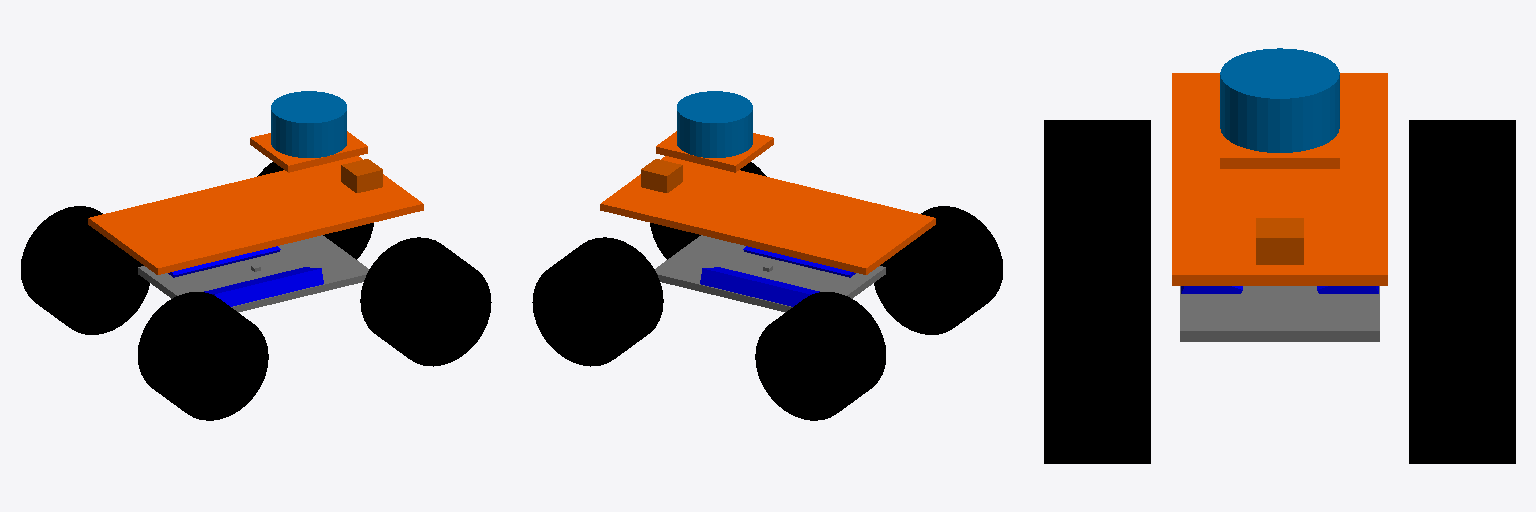
--- Facts derived from the render (not from the file) ---
The picture shows the robot from 3 angles, left to right: view 1: azimuth 30°, elevation 25°; view 2: azimuth 150°, elevation 25°; view 3: azimuth 270°, elevation 25°; orthographic projection.
Model racecar with 22 links and 21 joints (2 revolute, 4 continuous, 4 prismatic, 11 fixed), rooted at base_footprint, posed all joints at 0.
Links seen in each view (by area): view 1: platform_link, right_rear_wheel, right_front_wheel, left_rear_wheel, chassis, laser_link, right_battery, lidar_platform_link, imu_link, left_front_wheel, left_battery; view 2: platform_link, left_rear_wheel, left_front_wheel, right_rear_wheel, chassis, laser_link, left_battery, lidar_platform_link, imu_link, right_front_wheel, right_battery; view 3: platform_link, left_front_wheel, right_front_wheel, left_rear_wheel, right_rear_wheel, laser_link, chassis, lidar_platform_link, imu_link.
Boxes of the visible links, bbox=[...] form: platform_link: bbox=[88, 156, 423, 274]; right_rear_wheel: bbox=[138, 292, 268, 420]; right_front_wheel: bbox=[360, 237, 491, 366]; left_rear_wheel: bbox=[21, 206, 149, 334]; chassis: bbox=[138, 235, 368, 312]; laser_link: bbox=[271, 91, 346, 157]; right_battery: bbox=[204, 267, 323, 306]; lidar_platform_link: bbox=[250, 131, 367, 172]; imu_link: bbox=[341, 159, 382, 192]; left_front_wheel: bbox=[257, 162, 373, 259]; left_battery: bbox=[168, 246, 280, 277]; platform_link: bbox=[600, 156, 935, 274]; left_rear_wheel: bbox=[755, 292, 885, 420]; left_front_wheel: bbox=[532, 237, 663, 366]; right_rear_wheel: bbox=[874, 206, 1002, 334]; chassis: bbox=[655, 235, 885, 312]; laser_link: bbox=[677, 91, 752, 157]; left_battery: bbox=[700, 267, 819, 306]; lidar_platform_link: bbox=[656, 131, 773, 172]; imu_link: bbox=[641, 159, 682, 192]; right_front_wheel: bbox=[650, 162, 766, 259]; right_battery: bbox=[743, 246, 855, 277]; platform_link: bbox=[1172, 73, 1387, 285]; left_front_wheel: bbox=[1409, 289, 1515, 463]; right_front_wheel: bbox=[1044, 289, 1150, 463]; left_rear_wheel: bbox=[1409, 120, 1515, 288]; right_rear_wheel: bbox=[1044, 120, 1150, 288]; laser_link: bbox=[1220, 48, 1339, 152]; chassis: bbox=[1180, 286, 1379, 341]; lidar_platform_link: bbox=[1220, 129, 1339, 168]; imu_link: bbox=[1256, 218, 1303, 264].
Bounding box of the posed robot: 0.4811 × 0.3939 × 0.3115 m (x, y, z).
0 mesh visuals loaded from 1 distinct referenced files (none loaded); not drawn: 1 (reference not matched to a file when rendering).

The robot description file, URDF, robot "racecar":
<?xml version="1.0" encoding="utf-8"?>
<!-- =================================================================================== -->
<!-- |    This document was autogenerated by xacro from racecar.urdf.xacro             | -->
<!-- |    EDITING THIS FILE BY HAND IS NOT RECOMMENDED                                 | -->
<!-- =================================================================================== -->
<!-- racecar.urdf.xacro

This file defines a model of a Traxxas(R) E-Maxx(R) #3905 RC (Radio Controlled)
truck.

Lengths are measured in meters, angles are measured in radians, and masses are
measured in kilograms. All of these values are approximations.

To work with Gazebo, each link must have an inertial element, even if
the link only serves to connect two joints. To be visible in Gazebo, a link
must have a collision element. Furthermore, the link must have a Gazebo
material.

Traxxas(R), E-Maxx(R), and Titan(R) are registered trademarks of Traxxas
Management, LLC. em_3905.urdf.xacro was independently created by Wunderkammer
Laboratory, and neither em_3905.urdf.xacro nor Wunderkammer Laboratory is
affiliated with, sponsored by, approved by, or endorsed by Traxxas Management,
LLC. Mabuchi Motor(R) is a registered trademark of Mabuchi Motor Co., Ltd.
Corporation Japan. All other trademarks and service marks are the property of
their respective owners.

Copyright (c) 2011-2014 Wunderkammer Laboratory

Licensed under the Apache License, Version 2.0 (the "License");
you may not use this file except in compliance with the License.
You may obtain a copy of the License at

  http://www.apache.org/licenses/LICENSE-2.0

Unless required by applicable law or agreed to in writing, software
distributed under the License is distributed on an "AS IS" BASIS,
WITHOUT WARRANTIES OR CONDITIONS OF ANY KIND, either express or implied.
See the License for the specific language governing permissions and
limitations under the License.
-->
<robot name="racecar">
  <link name="camera_link">
    <inertial>
      <mass value="0.001"/>
      <origin xyz="0 0 0"/>
      <inertia ixx="0.001" ixy="0.0" ixz="0.0" iyy="0.001" iyz="0.0" izz="0.001"/>
    </inertial>
    <visual>
      <origin rpy="1.57 0 1.57" xyz=" 0 0 0 "/>
      <geometry>
        <mesh filename="package://racecar_description/meshes/S1030-0315.dae" scale="0.1 0.1 0.1"/>
      </geometry>
    </visual>
    <collision>
      <origin rpy="0 0 0" xyz="0.0 0.0 0.0"/>
      <geometry>
        <box size="0.03 0.16 0.03"/>
      </geometry>
    </collision>
  </link>
  <gazebo reference="camera_link">
    <material>Gazebo/Black</material>
  </gazebo>
  <gazebo reference="camera_link">
    <sensor name="camera_node" type="camera">
      <pose>0 0 0 0 0 0</pose>
      <update_rate>30.0</update_rate>
      <camera name="head">
        <horizontal_fov>1.3962634</horizontal_fov>
        <image>
          <width>1280</width>
          <height>720</height>
          <format>R8G8B8</format>
        </image>
        <clip>
          <near>0.02</near>
          <far>300</far>
        </clip>
        <noise>
          <type>gaussian</type>
          <mean>0.0</mean>
          <stddev>0.007</stddev>
        </noise>
      </camera>
      <plugin filename="libgazebo_ros_camera.so" name="gazebo_camera">
        <alwaysOn>true</alwaysOn>
        <updateRate>0.0</updateRate>
        <cameraName>/camera</cameraName>
        <imageTopicName>image_raw</imageTopicName>
        <cameraInfoTopicName>camera_info</cameraInfoTopicName>
        <frameName>camera_link</frameName>
        <hackBaseline>0.07</hackBaseline>
        <distortionK1>0.0</distortionK1>
        <distortionK2>0.0</distortionK2>
        <distortionK3>0.0</distortionK3>
        <distortionT1>0.0</distortionT1>
        <distortionT2>0.0</distortionT2>
      </plugin>
    </sensor>
  </gazebo>
  <material name="battery_mat">
    <color rgba="0 0 1 1"/>
  </material>
  <material name="chassis_mat">
    <color rgba="0.5 0.5 0.5 1"/>
  </material>
  <material name="tire_mat">
    <color rgba="0 0 0 1"/>
  </material>
  <material name="yellow">
    <color rgba="1 0.4 0 1"/>
  </material>
  <link name="base_footprint"/>
  <!-- base_link must have geometry so that its axes can be displayed in
       rviz. -->
  <link name="base_link">
    <visual>
      <geometry>
        <box size="0.01 0.01 0.01"/>
      </geometry>
      <material name="chassis_mat"/>
    </visual>
  </link>
  <gazebo reference="base_link">
    <material>Gazebo/Grey</material>
  </gazebo>
  <joint name="base_footprint_to_base_link" type="fixed">
    <parent link="base_footprint"/>
    <child link="base_link"/>
    <origin xyz="0 0 0.1075"/>
  </joint>
  <!-- Chassis -->
  <link name="chassis">
    <visual>
      W
      
      <origin xyz="0 0 -0.005"/>
      <geometry>
        <box size="0.258 0.168 0.01"/>
      </geometry>
      <material name="chassis_mat"/>
    </visual>
    <collision>
      <origin xyz="0 0 -0.005"/>
      <geometry>
        <box size="0.258 0.168 0.01"/>
      </geometry>
    </collision>
    <inertial>
      <origin xyz="0 0 -0.005"/>
      <mass value="2.788"/>
      <inertia ixx="0.00658060933333" ixy="0" ixz="0" iyy="0.0154882693333" iyz="0" izz="0.022022412"/>
    </inertial>
  </link>
  <gazebo reference="chassis">
    <material>Gazebo/Grey</material>
  </gazebo>
  <joint name="base_link_to_chassis" type="fixed">
    <parent link="base_link"/>
    <child link="chassis"/>
  </joint>
  <joint name="chassis_to_left_battery" type="fixed">
    <parent link="chassis"/>
    <child link="left_battery_offset"/>
    <origin rpy="0.34906585 0 0" xyz="-0.025                    0.0325                    0"/>
  </joint>
  <link name="left_battery_offset">
    <inertial>
      <mass value="0.001"/>
      <inertia ixx="0.001" ixy="0" ixz="0" iyy="0.001" iyz="0" izz="0.001"/>
    </inertial>
  </link>
  <joint name="offset_to_left_battery" type="fixed">
    <parent link="left_battery_offset"/>
    <child link="left_battery"/>
    <origin xyz="0                    0.0235                    -0.008"/>
  </joint>
  <link name="left_battery">
    <visual>
      <geometry>
        <box size="0.16 0.047 0.024"/>
      </geometry>
      <material name="battery_mat"/>
    </visual>
    <collision>
      <geometry>
        <box size="0.16 0.047 0.024"/>
      </geometry>
    </collision>
    <inertial>
      <origin/>
      <mass value="0.5025"/>
      <inertia ixx="0.000116621875" ixy="0" ixz="0" iyy="0.00109612" iyz="0" izz="0.001164501875"/>
    </inertial>
  </link>
  <gazebo reference="left_battery">
    <material>Gazebo/Blue</material>
  </gazebo>
  <joint name="chassis_to_right_battery" type="fixed">
    <parent link="chassis"/>
    <child link="right_battery_offset"/>
    <origin rpy="-0.34906585 0 0" xyz="-0.025                    -0.0325                    0"/>
  </joint>
  <link name="right_battery_offset">
    <inertial>
      <mass value="0.001"/>
      <inertia ixx="0.001" ixy="0" ixz="0" iyy="0.001" iyz="0" izz="0.001"/>
    </inertial>
  </link>
  <joint name="offset_to_right_battery" type="fixed">
    <parent link="right_battery_offset"/>
    <child link="right_battery"/>
    <origin xyz="0                    -0.0235                    -0.008"/>
  </joint>
  <link name="right_battery">
    <visual>
      <geometry>
        <box size="0.16 0.047 0.024"/>
      </geometry>
      <material name="battery_mat"/>
    </visual>
    <collision>
      <geometry>
        <box size="0.16 0.047 0.024"/>
      </geometry>
    </collision>
    <inertial>
      <origin/>
      <mass value="0.5025"/>
      <inertia ixx="0.000116621875" ixy="0" ixz="0" iyy="0.00109612" iyz="0" izz="0.001164501875"/>
    </inertial>
  </link>
  <gazebo reference="right_battery">
    <material>Gazebo/Blue</material>
  </gazebo>
  <joint name="left_front_shock" type="prismatic">
    <parent link="chassis"/>
    <child link="left_steering_link"/>
    <origin xyz="0.1675                    0.1525                    -0.0235"/>
    <axis xyz="0 0 -1"/>
    <limit effort="12.5106" lower="-0.042" upper="0.042" velocity="1000"/>
  </joint>
  <transmission name="left_front_shock_trans">
    <type>transmission_interface/SimpleTransmission</type>
    <joint name="left_front_shock">
      <hardwareInterface>hardware_interface/EffortJointInterface</hardwareInterface>
    </joint>
    <actuator name="left_front_shock_act">
      <!-- This hardwareInterface element exists for compatibility
             with ROS Hydro. -->
      <hardwareInterface>hardware_interface/EffortJointInterface</hardwareInterface>
      <mechanicalReduction>1</mechanicalReduction>
    </actuator>
  </transmission>
  <link name="left_steering_link">
    <inertial>
      <mass value="0.001"/>
      <inertia ixx="0.001" ixy="0" ixz="0" iyy="0.001" iyz="0" izz="0.001"/>
    </inertial>
  </link>
  <joint name="left_steering_joint" type="revolute">
    <parent link="left_steering_link"/>
    <child link="left_front_axle_carrier"/>
    <axis xyz="0 0 1"/>
    <limit effort="0.5649" lower="-0.785398163" upper="0.785398163" velocity="4.553"/>
  </joint>
  <transmission name="left_steering_trans">
    <type>transmission_interface/SimpleTransmission</type>
    <joint name="left_steering_joint">
      <hardwareInterface>hardware_interface/EffortJointInterface</hardwareInterface>
    </joint>
    <actuator name="left_steering_act">
      <!-- This hardwareInterface element exists for compatibility
             with ROS Hydro. -->
      <hardwareInterface>hardware_interface/EffortJointInterface</hardwareInterface>
      <mechanicalReduction>1</mechanicalReduction>
    </actuator>
  </transmission>
  <link name="left_front_axle_carrier">
    <inertial>
      <mass value="0.001"/>
      <inertia ixx="0.001" ixy="0" ixz="0" iyy="0.001" iyz="0" izz="0.001"/>
    </inertial>
  </link>
  <!-- The left and right axles have the same axis so that identical
         rotation values cause the wheels to rotate in the same direction. -->
  <joint name="left_front_axle" type="continuous">
    <parent link="left_front_axle_carrier"/>
    <child link="left_front_wheel"/>
    <origin rpy="1.57079633 0 0"/>
    <axis xyz="0 0 -1"/>
    <limit effort="5.12766" velocity="244.8696"/>
  </joint>
  <transmission name="left_front_axle_trans">
    <type>transmission_interface/SimpleTransmission</type>
    <joint name="left_front_axle">
      <hardwareInterface>hardware_interface/EffortJointInterface</hardwareInterface>
    </joint>
    <actuator name="left_front_axle_act">
      <!-- This hardwareInterface element exists for compatibility
             with ROS Hydro. -->
      <hardwareInterface>hardware_interface/EffortJointInterface</hardwareInterface>
      <mechanicalReduction>1</mechanicalReduction>
    </actuator>
  </transmission>
  <link name="left_front_wheel">
    <visual>
      <origin xyz="0                      -6.93889390391e-18                      0"/>
      <geometry>
        <cylinder length="0.0889" radius="0.073025"/>
      </geometry>
      <material name="tire_mat"/>
    </visual>
    <collision>
      <origin xyz="0                      -6.93889390391e-18                      0"/>
      <geometry>
        <cylinder length="0.0889" radius="0.073025"/>
      </geometry>
    </collision>
    <inertial>
      <mass value="0.29"/>
      <inertia ixx="0.000746465912979" ixy="0" ixz="0" iyy="0.000746465912979" iyz="0" izz="0.00111094334263"/>
    </inertial>
  </link>
  <gazebo reference="left_front_wheel">
    <material>Gazebo/Black</material>
  </gazebo>
  <joint name="right_front_shock" type="prismatic">
    <parent link="chassis"/>
    <child link="right_steering_link"/>
    <origin xyz="0.1675                    -0.1525                    -0.0235"/>
    <axis xyz="0 0 -1"/>
    <limit effort="12.5106" lower="-0.042" upper="0.042" velocity="1000"/>
  </joint>
  <transmission name="right_front_shock_trans">
    <type>transmission_interface/SimpleTransmission</type>
    <joint name="right_front_shock">
      <hardwareInterface>hardware_interface/EffortJointInterface</hardwareInterface>
    </joint>
    <actuator name="right_front_shock_act">
      <!-- This hardwareInterface element exists for compatibility
             with ROS Hydro. -->
      <hardwareInterface>hardware_interface/EffortJointInterface</hardwareInterface>
      <mechanicalReduction>1</mechanicalReduction>
    </actuator>
  </transmission>
  <link name="right_steering_link">
    <inertial>
      <mass value="0.001"/>
      <inertia ixx="0.001" ixy="0" ixz="0" iyy="0.001" iyz="0" izz="0.001"/>
    </inertial>
  </link>
  <joint name="right_steering_joint" type="revolute">
    <parent link="right_steering_link"/>
    <child link="right_front_axle_carrier"/>
    <axis xyz="0 0 1"/>
    <limit effort="0.5649" lower="-0.785398163" upper="0.785398163" velocity="4.553"/>
  </joint>
  <transmission name="right_steering_trans">
    <type>transmission_interface/SimpleTransmission</type>
    <joint name="right_steering_joint">
      <hardwareInterface>hardware_interface/EffortJointInterface</hardwareInterface>
    </joint>
    <actuator name="right_steering_act">
      <!-- This hardwareInterface element exists for compatibility
             with ROS Hydro. -->
      <hardwareInterface>hardware_interface/EffortJointInterface</hardwareInterface>
      <mechanicalReduction>1</mechanicalReduction>
    </actuator>
  </transmission>
  <link name="right_front_axle_carrier">
    <inertial>
      <mass value="0.001"/>
      <inertia ixx="0.001" ixy="0" ixz="0" iyy="0.001" iyz="0" izz="0.001"/>
    </inertial>
  </link>
  <!-- The left and right axles have the same axis so that identical
         rotation values cause the wheels to rotate in the same direction. -->
  <joint name="right_front_axle" type="continuous">
    <parent link="right_front_axle_carrier"/>
    <child link="right_front_wheel"/>
    <origin rpy="1.57079633 0 0"/>
    <axis xyz="0 0 -1"/>
    <limit effort="5.12766" velocity="244.8696"/>
  </joint>
  <transmission name="right_front_axle_trans">
    <type>transmission_interface/SimpleTransmission</type>
    <joint name="right_front_axle">
      <hardwareInterface>hardware_interface/EffortJointInterface</hardwareInterface>
    </joint>
    <actuator name="right_front_axle_act">
      <!-- This hardwareInterface element exists for compatibility
             with ROS Hydro. -->
      <hardwareInterface>hardware_interface/EffortJointInterface</hardwareInterface>
      <mechanicalReduction>1</mechanicalReduction>
    </actuator>
  </transmission>
  <link name="right_front_wheel">
    <visual>
      <origin xyz="0                      6.93889390391e-18                      0"/>
      <geometry>
        <cylinder length="0.0889" radius="0.073025"/>
      </geometry>
      <material name="tire_mat"/>
    </visual>
    <collision>
      <origin xyz="0                      6.93889390391e-18                      0"/>
      <geometry>
        <cylinder length="0.0889" radius="0.073025"/>
      </geometry>
    </collision>
    <inertial>
      <mass value="0.29"/>
      <inertia ixx="0.000746465912979" ixy="0" ixz="0" iyy="0.000746465912979" iyz="0" izz="0.00111094334263"/>
    </inertial>
  </link>
  <gazebo reference="right_front_wheel">
    <material>Gazebo/Black</material>
  </gazebo>
  <joint name="left_rear_shock" type="prismatic">
    <parent link="chassis"/>
    <child link="left_rear_axle_carrier"/>
    <origin xyz="-0.1675                    0.1525                    -0.0235"/>
    <axis xyz="0 0 -1"/>
    <limit effort="12.5106" lower="-0.042" upper="0.042" velocity="1000"/>
  </joint>
  <transmission name="left_rear_shock_trans">
    <type>transmission_interface/SimpleTransmission</type>
    <joint name="left_rear_shock">
      <hardwareInterface>hardware_interface/EffortJointInterface</hardwareInterface>
    </joint>
    <actuator name="left_rear_shock_act">
      <!-- This hardwareInterface element exists for compatibility
             with ROS Hydro. -->
      <hardwareInterface>hardware_interface/EffortJointInterface</hardwareInterface>
      <mechanicalReduction>1</mechanicalReduction>
    </actuator>
  </transmission>
  <link name="left_rear_axle_carrier">
    <inertial>
      <mass value="0.001"/>
      <inertia ixx="0.001" ixy="0" ixz="0" iyy="0.001" iyz="0" izz="0.001"/>
    </inertial>
  </link>
  <!-- The left and right axles have the same axis so that identical
         rotation values cause the wheels to rotate in the same direction. -->
  <joint name="left_rear_axle" type="continuous">
    <parent link="left_rear_axle_carrier"/>
    <child link="left_rear_wheel"/>
    <origin rpy="1.57079633 0 0"/>
    <axis xyz="0 0 -1"/>
    <limit effort="5.12766" velocity="244.8696"/>
  </joint>
  <transmission name="left_rear_axle_trans">
    <type>transmission_interface/SimpleTransmission</type>
    <joint name="left_rear_axle">
      <hardwareInterface>hardware_interface/EffortJointInterface</hardwareInterface>
    </joint>
    <actuator name="left_rear_axle_act">
      <!-- This hardwareInterface element exists for compatibility
             with ROS Hydro. -->
      <hardwareInterface>hardware_interface/EffortJointInterface</hardwareInterface>
      <mechanicalReduction>1</mechanicalReduction>
    </actuator>
  </transmission>
  <link name="left_rear_wheel">
    <visual>
      <origin xyz="0                      -6.93889390391e-18                      0"/>
      <geometry>
        <cylinder length="0.0889" radius="0.073025"/>
      </geometry>
      <material name="tire_mat"/>
    </visual>
    <collision>
      <origin xyz="0                      -6.93889390391e-18                      0"/>
      <geometry>
        <cylinder length="0.0889" radius="0.073025"/>
      </geometry>
    </collision>
    <inertial>
      <mass value="0.29"/>
      <inertia ixx="0.000746465912979" ixy="0" ixz="0" iyy="0.000746465912979" iyz="0" izz="0.00111094334263"/>
    </inertial>
  </link>
  <gazebo reference="left_rear_wheel">
    <material>Gazebo/Black</material>
  </gazebo>
  <joint name="right_rear_shock" type="prismatic">
    <parent link="chassis"/>
    <child link="right_rear_axle_carrier"/>
    <origin xyz="-0.1675                    -0.1525                    -0.0235"/>
    <axis xyz="0 0 -1"/>
    <limit effort="12.5106" lower="-0.042" upper="0.042" velocity="1000"/>
  </joint>
  <transmission name="right_rear_shock_trans">
    <type>transmission_interface/SimpleTransmission</type>
    <joint name="right_rear_shock">
      <hardwareInterface>hardware_interface/EffortJointInterface</hardwareInterface>
    </joint>
    <actuator name="right_rear_shock_act">
      <!-- This hardwareInterface element exists for compatibility
             with ROS Hydro. -->
      <hardwareInterface>hardware_interface/EffortJointInterface</hardwareInterface>
      <mechanicalReduction>1</mechanicalReduction>
    </actuator>
  </transmission>
  <link name="right_rear_axle_carrier">
    <inertial>
      <mass value="0.001"/>
      <inertia ixx="0.001" ixy="0" ixz="0" iyy="0.001" iyz="0" izz="0.001"/>
    </inertial>
  </link>
  <!-- The left and right axles have the same axis so that identical
         rotation values cause the wheels to rotate in the same direction. -->
  <joint name="right_rear_axle" type="continuous">
    <parent link="right_rear_axle_carrier"/>
    <child link="right_rear_wheel"/>
    <origin rpy="1.57079633 0 0"/>
    <axis xyz="0 0 -1"/>
    <limit effort="5.12766" velocity="244.8696"/>
  </joint>
  <transmission name="right_rear_axle_trans">
    <type>transmission_interface/SimpleTransmission</type>
    <joint name="right_rear_axle">
      <hardwareInterface>hardware_interface/EffortJointInterface</hardwareInterface>
    </joint>
    <actuator name="right_rear_axle_act">
      <!-- This hardwareInterface element exists for compatibility
             with ROS Hydro. -->
      <hardwareInterface>hardware_interface/EffortJointInterface</hardwareInterface>
      <mechanicalReduction>1</mechanicalReduction>
    </actuator>
  </transmission>
  <link name="right_rear_wheel">
    <visual>
      <origin xyz="0                      6.93889390391e-18                      0"/>
      <geometry>
        <cylinder length="0.0889" radius="0.073025"/>
      </geometry>
      <material name="tire_mat"/>
    </visual>
    <collision>
      <origin xyz="0                      6.93889390391e-18                      0"/>
      <geometry>
        <cylinder length="0.0889" radius="0.073025"/>
      </geometry>
    </collision>
    <inertial>
      <mass value="0.29"/>
      <inertia ixx="0.000746465912979" ixy="0" ixz="0" iyy="0.000746465912979" iyz="0" izz="0.00111094334263"/>
    </inertial>
  </link>
  <gazebo reference="right_rear_wheel">
    <material>Gazebo/Black</material>
  </gazebo>
  <gazebo>
    <plugin filename="libgazebo_ros_control.so" name="gazebo_ros_control">
      <legacyModeNS>true</legacyModeNS>
      <robotSimType>gazebo_ros_control/DefaultRobotHWSim</robotSimType>
      <robotNamespace>/racecar</robotNamespace>
    </plugin>
  </gazebo>
  <joint name="platform_joint" type="fixed">
    <origin rpy="0 0 0" xyz="0 0 0.08"/>
    <parent link="chassis"/>
    <child link="platform_link"/>
  </joint>
  <link name="platform_link">
    <visual>
      <origin rpy="0 0 0" xyz="0 0 0"/>
      <geometry>
        <box size="0.4 0.18 0.01"/>
      </geometry>
      <material name="yellow"/>
    </visual>
    <collision>
      <origin rpy="0 0 0" xyz="0 0 0"/>
      <geometry>
        <box size="0.4 0.18 0.01"/>
      </geometry>
    </collision>
    <inertial>
      <origin xyz="0 0 -0.005"/>
      <mass value="0.0"/>
      <inertia ixx="0.0" ixy="0" ixz="0" iyy="0.0" iyz="0" izz="0.0"/>
    </inertial>
  </link>
  <gazebo reference="platform_link">
    <material>Gazebo/Orange</material>
  </gazebo>
  <joint name="lidar_platform_joint" type="fixed">
    <origin rpy="0 0 0" xyz="0.08 0 0.08"/>
    <parent link="platform_link"/>
    <child link="lidar_platform_link"/>
  </joint>
  <link name="lidar_platform_link">
    <visual>
      <origin rpy="0 0 0" xyz="0 0 0"/>
      <geometry>
        <box size="0.12 0.1 0.01"/>
      </geometry>
      <material name="yellow"/>
    </visual>
    <collision>
      <origin rpy="0 0 0" xyz="0 0 0"/>
      <geometry>
        <box size="0.12 0.1 0.01"/>
      </geometry>
    </collision>
    <inertial>
      <origin xyz="0 0 -0.005"/>
      <mass value="0.0"/>
      <inertia ixx="0.0" ixy="0" ixz="0" iyy="0.0" iyz="0" izz="0.0"/>
    </inertial>
  </link>
  <gazebo reference="lidar_platform_link">
    <material>Gazebo/Orange</material>
  </gazebo>
  <joint name="lidar_joint" type="fixed">
    <origin rpy="0 0 0" xyz="0 0 0.03"/>
    <parent link="lidar_platform_link"/>
    <child link="laser_link"/>
  </joint>
  <!-- Create laser reference frame -->
  <link name="laser_link">
    <inertial>
      <mass value="0.001"/>
      <origin xyz="0 0 0"/>
      <inertia ixx="0.001" ixy="0.0" ixz="0.0" iyy="0.001" iyz="0.0" izz="0.001"/>
    </inertial>
    <visual>
      <origin rpy="0 0 0" xyz=" 0 0 0 "/>
      <geometry>
        <cylinder length="0.05" radius="0.05"/>
      </geometry>
      <material name="black"/>
    </visual>
    <collision>
      <origin rpy="0 0 0" xyz="0.0 0.0 0.0"/>
      <geometry>
        <cylinder length="0.06" radius="0.05"/>
      </geometry>
    </collision>
  </link>
  <gazebo reference="laser_link">
    <material>Gazebo/Black</material>
  </gazebo>
  <gazebo reference="laser_link">
    <sensor name="ls01g" type="ray">
      <pose>0 0 0 0 0 0</pose>
      <visualize>false</visualize>
      <update_rate>10.0</update_rate>
      <ray>
        <scan>
          <horizontal>
            <samples>360</samples>
            <resolution>1</resolution>
            <min_angle>-3.1415926</min_angle>
            <max_angle>3.1415926</max_angle>
          </horizontal>
        </scan>
        <range>
          <min>0.10</min>
          <max>8.0</max>
          <resolution>0.01</resolution>
        </range>
        <noise>
          <type>gaussian</type>
          <mean>0.0</mean>
          <stddev>0.01</stddev>
        </noise>
      </ray>
      <plugin filename="libgazebo_ros_laser.so" name="gazebo_ls01g">
        <topicName>/scan</topicName>
        <frameName>laser_link</frameName>
      </plugin>
    </sensor>
  </gazebo>
  <joint name="imu_joint" type="fixed">
    <origin rpy="0 0 0" xyz="0.16 0 0.015"/>
    <parent link="platform_link"/>
    <child link="imu_link"/>
  </joint>
  <!-- Create laser reference frame -->
  <link name="imu_link">
    <inertial>
      <mass value="0.001"/>
      <origin xyz="0 0 0"/>
      <inertia ixx="0.001" ixy="0.0" ixz="0.0" iyy="0.001" iyz="0.0" izz="0.001"/>
    </inertial>
    <visual>
      <origin rpy="0 0 0" xyz=" 0 0 0 "/>
      <geometry>
        <box size="0.04 0.04 0.03"/>
      </geometry>
      <material name="black"/>
    </visual>
    <collision>
      <origin rpy="0 0 0" xyz="0.0 0.0 0.0"/>
      <geometry>
        <box size="0.04 0.04 0.03"/>
      </geometry>
    </collision>
  </link>
  <gazebo reference="imu_link">
    <material>Gazebo/Black</material>
  </gazebo>
  <gazebo reference="imu_link">
    <gravity>true</gravity>
    <sensor name="imu_sensor" type="imu">
      <always_on>true</always_on>
      <update_rate>100</update_rate>
      <visualize>true</visualize>
      <topic>/imu_data</topic>
      <plugin filename="libgazebo_ros_imu_sensor.so" name="imu_plugin">
        <topicName>/imu_data</topicName>
        <bodyName>imu_link</bodyName>
        <updateRateHZ>100.0</updateRateHZ>
        <gaussianNoise>0.0</gaussianNoise>
        <xyzOffset>0 0 0</xyzOffset>
        <rpyOffset>0 0 0</rpyOffset>
        <frameName>imu_link</frameName>
      </plugin>
      <pose>0 0 0 0 0 0</pose>
    </sensor>
  </gazebo>
  <joint name="camera_joint" type="fixed">
    <origin rpy="0 0 0" xyz="0.16 0 0.05"/>
    <parent link="platform_link"/>
    <child link="camera_link"/>
  </joint>
  <camera prefix="camera"/>
</robot>
